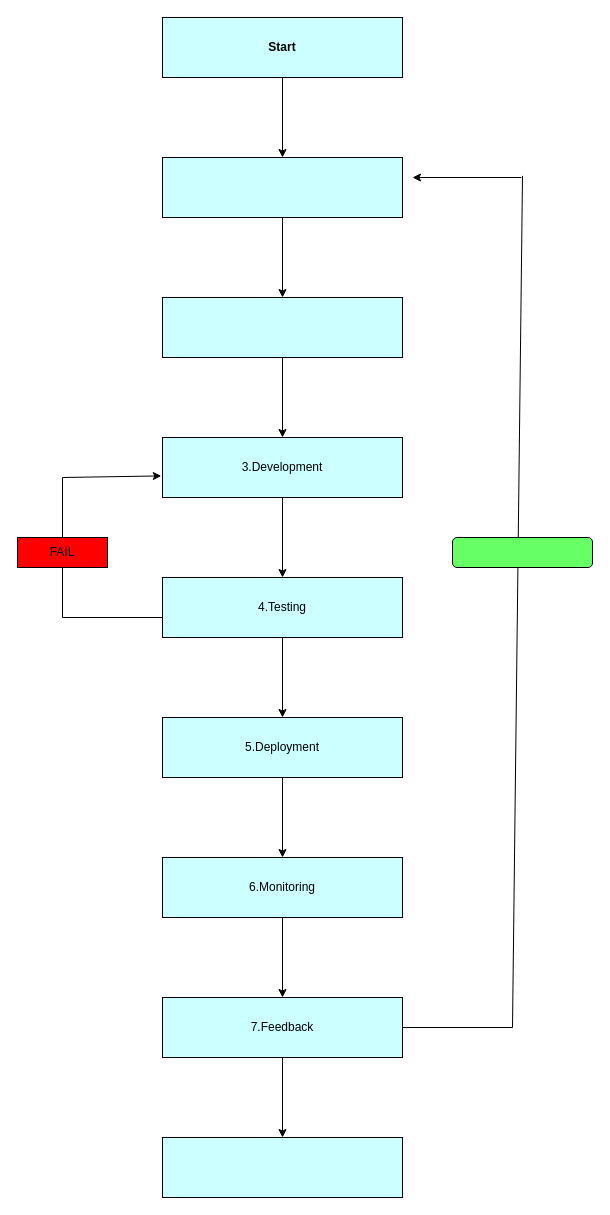
The diagram is 610 pixels wide and 1215 high, and some of its shapes have lost their labels. The centre of each missing label's shape, as x and y in pixels:
"1. Planning & Requirement" goes at (282,187).
"2.Design" goes at (282,327).
"Improvements (Iterate)" goes at (282,1167).
"ITERATE" goes at (522,552).
